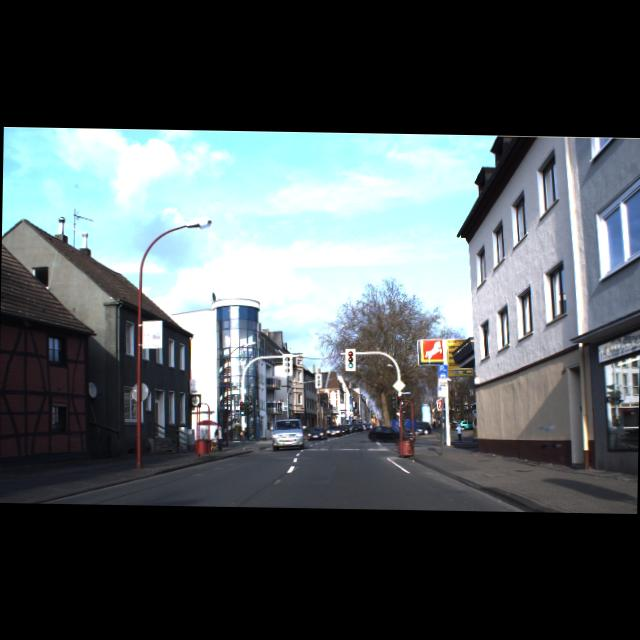other: (392, 378, 404, 392)
